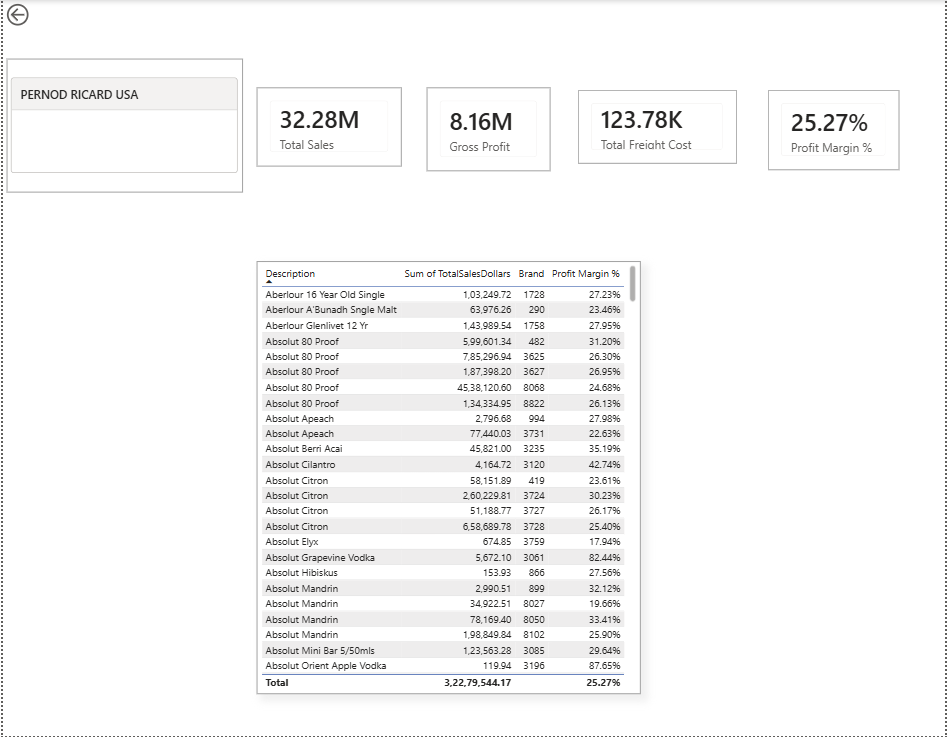

This screenshot's page, from the dashboard's own definition file:
{"tool":"powerbi","page":{"name":"Vendor Detail","canvas":[1280,1000],"ordinal":3},"visuals":[{"type":"cardVisual","fields":{"Rows":["vendor_sales_compressed.VendorName"]},"box":[5.1,79.8,321,181.7],"z":0},{"type":"cardVisual","fields":{"Data":["vendor_sales_compressed.Total Sales"]},"box":[344.8,118.9,197,107],"z":1},{"type":"cardVisual","fields":{"Data":["vendor_sales_compressed.Gross Profit"]},"box":[575.8,118.9,168.1,113.8],"z":2},{"type":"cardVisual","fields":{"Data":["vendor_sales_compressed.Total Freight Cost"]},"box":[781.3,122.3,215.7,100.2],"z":3},{"type":"cardVisual","fields":{"Data":["vendor_sales_compressed.Profit Margin %"]},"box":[1039.4,122.3,178.3,108.7],"z":4},{"type":"tableEx","fields":{"Values":["vendor_sales_compressed.Description","Sum(vendor_sales_compressed.TotalSalesDollars)","vendor_sales_compressed.Brand","vendor_sales_compressed.Profit Margin %"]},"box":[344.8,355,521.4,587.6],"z":5},{"type":"actionButton","box":[0,0,100,40],"z":6}]}

Visuals, with their boxes on the page's 1280x1000 design canvas (x1, y1, x2, y2). These are canvas units, not pixel positions in the 947x737 screenshot, which may show the page scaled, cropped or inside an application window:
cardVisual - vendor_sales_compressed.VendorName: 5/80/326/262
cardVisual - vendor_sales_compressed.Total Sales: 345/119/542/226
cardVisual - vendor_sales_compressed.Gross Profit: 576/119/744/233
cardVisual - vendor_sales_compressed.Total Freight Cost: 781/122/997/222
cardVisual - vendor_sales_compressed.Profit Margin %: 1039/122/1218/231
tableEx - vendor_sales_compressed.Description x Sum(vendor_sales_compressed.TotalSalesDollars): 345/355/866/943
actionButton: 0/0/100/40
